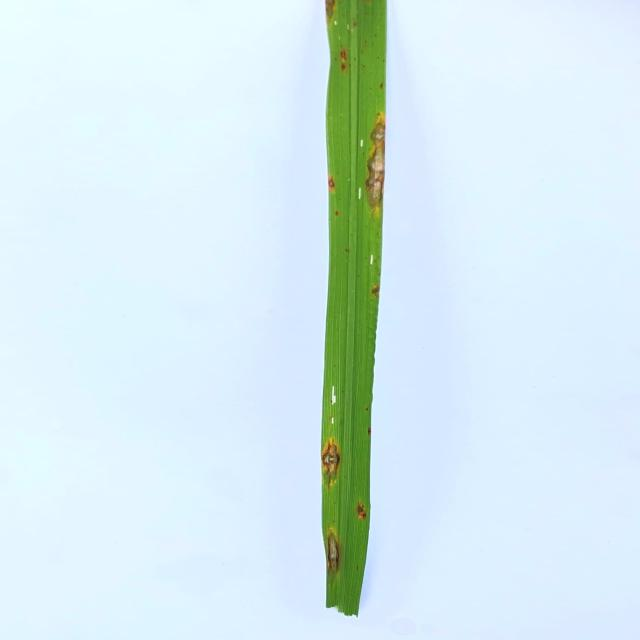leaf blast: (363, 111, 387, 217), (320, 435, 346, 486), (323, 525, 345, 575), (335, 48, 351, 75), (353, 505, 370, 522), (325, 0, 336, 26), (370, 283, 381, 300), (326, 175, 338, 190), (359, 0, 377, 3)
